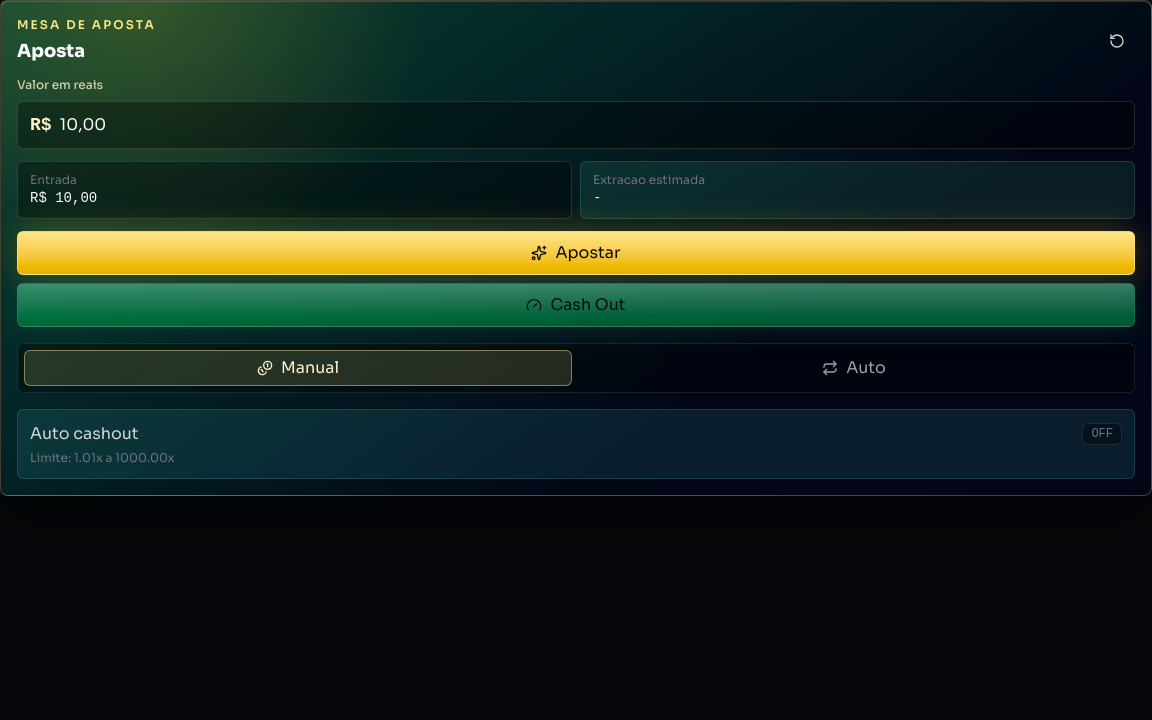
Test case: game dashboard helpers › disables betting when auto cashout target is outside limits
The image size is (1152, 720).
Click the button "Auto cashout OFF" at (84, 434), box [30,422,1122,446]
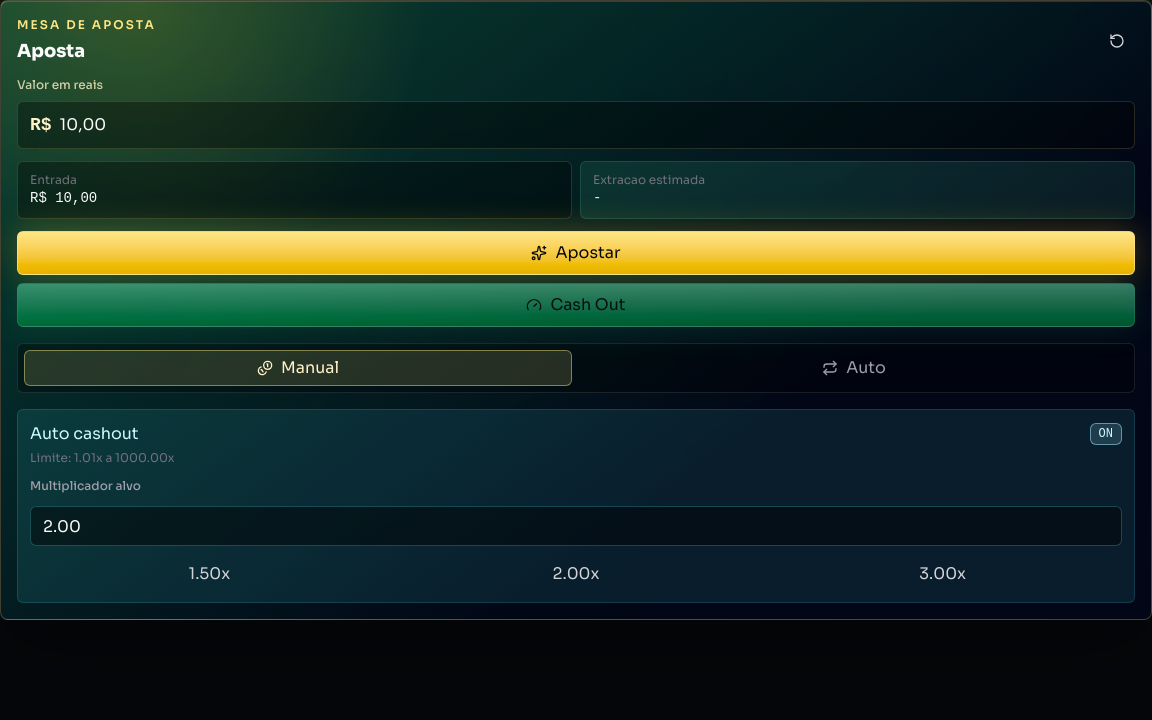
Replace the text in the field labelled "Multiplicador alvo" with "1.00" at (576, 526), box [30,506,1122,546]
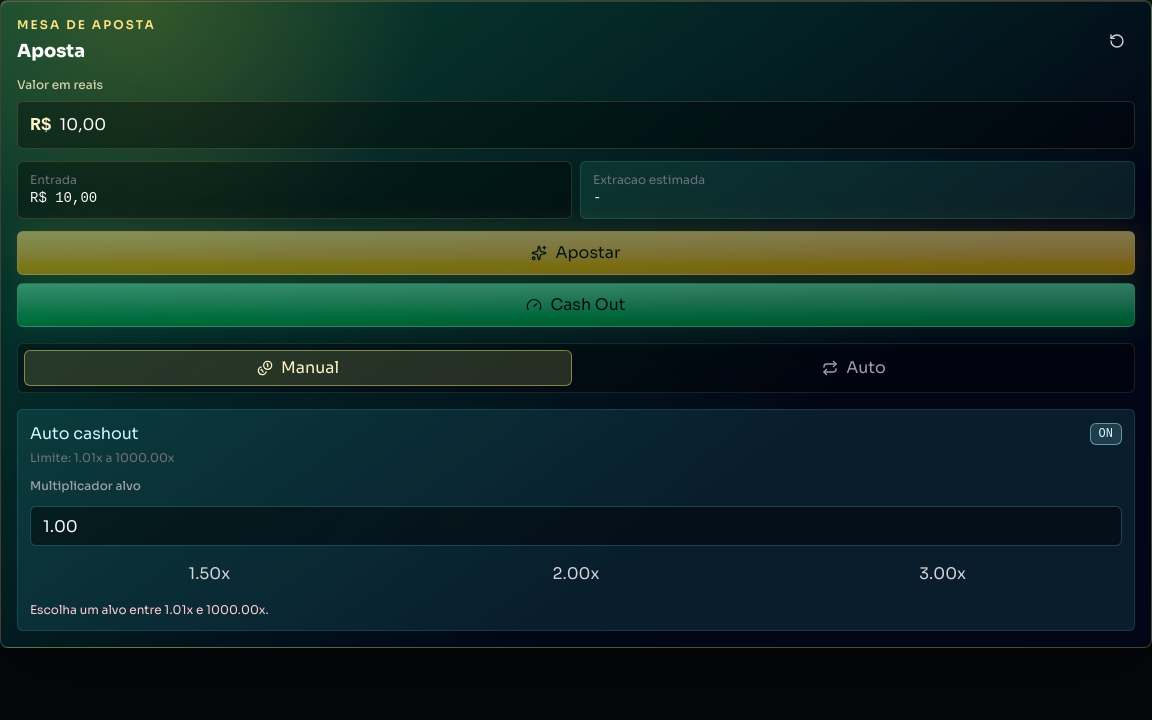
Now the button "Apostar" is disabled, box [17,231,1135,275]
